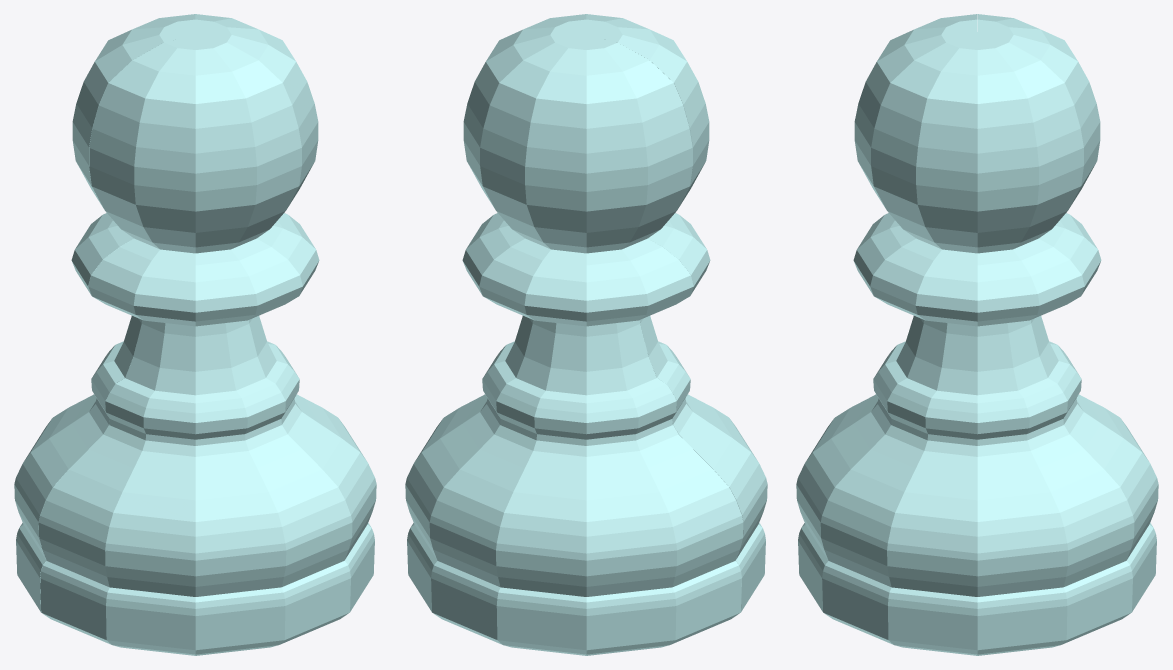
Rendered from chess gameA.glb.
3 renders of one model, left to right at view 1: azimuth 30°, elevation 25°; view 2: azimuth 150°, elevation 25°; view 3: azimuth 270°, elevation 25°, orthographic.
Parts seen in each view (by area): view 1: Cube; view 2: Cube; view 3: Cube.
Boxes of the visible parts, bbox=[...] form: Cube: bbox=[14, 14, 376, 655]; Cube: bbox=[405, 14, 767, 655]; Cube: bbox=[796, 14, 1158, 655].
Bounding box in the file's own units: 1.11 × 1.88 × 1.11.
